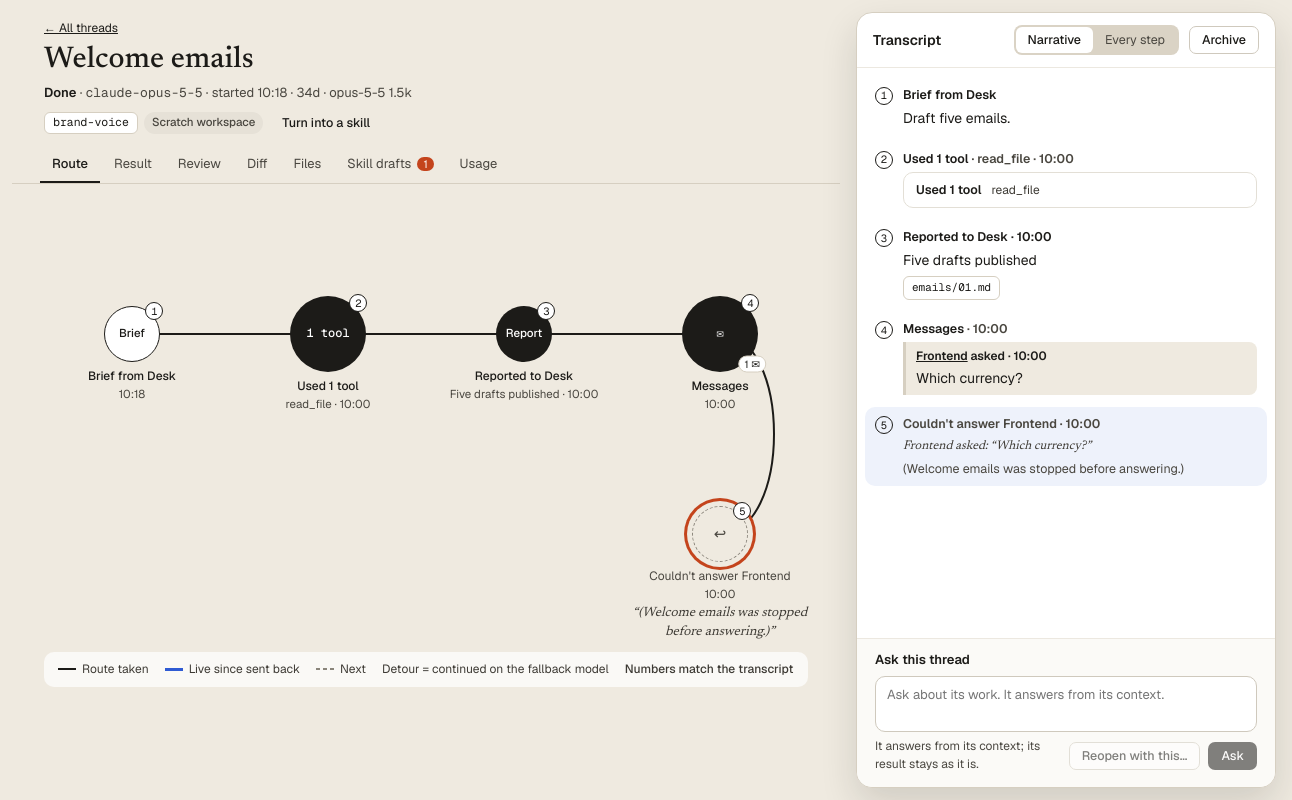
it: ThreadsScreen › mutes an answer run that could not answer and shows the runtime's closure
Check: the text "Couldn't answer Frontend" is shown, box x1=649 y1=568 x2=791 y2=585
Check: the text "Couldn't answer Frontend · 10:00" is shown, box x1=903 y1=415 x2=1100 y2=432
Click the button "Every step" at (1135, 40), box x1=1093 y1=27 x2=1177 y2=53
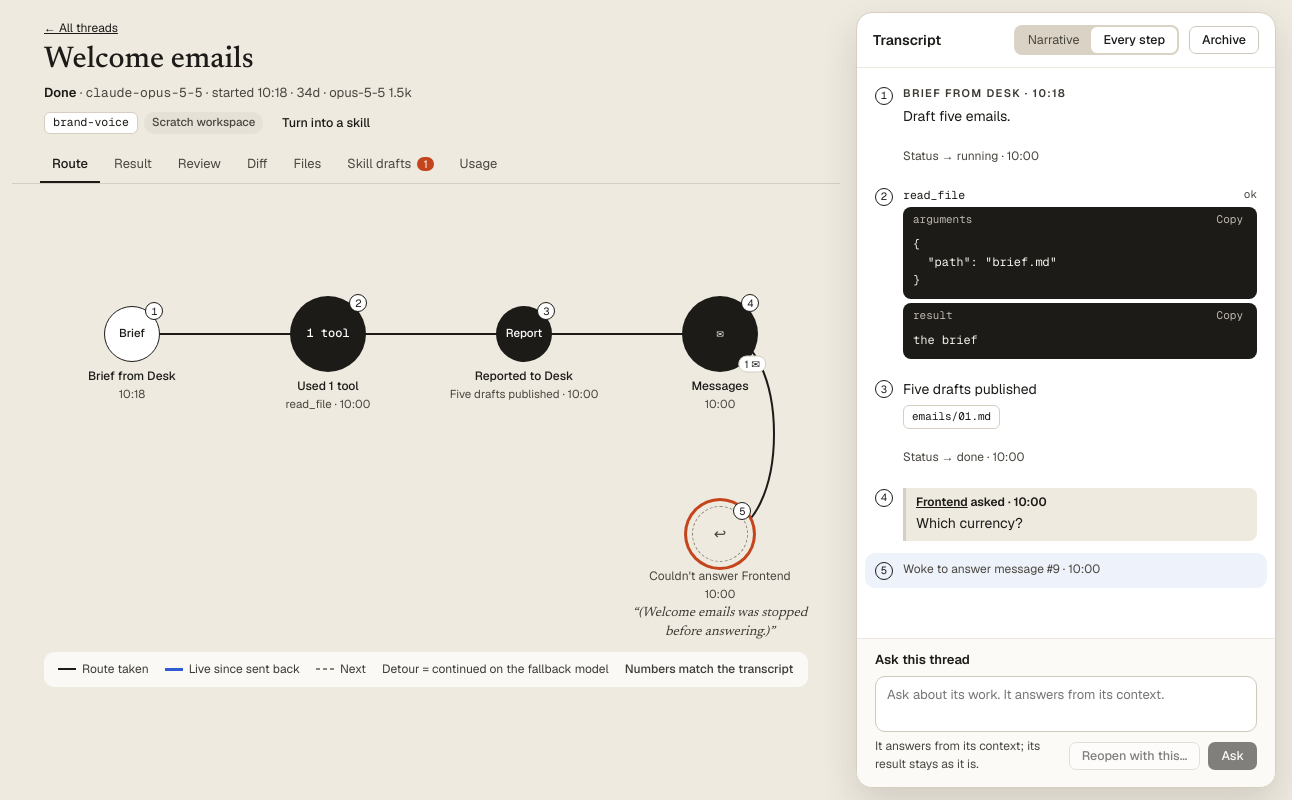
Check: the text "Woke to answer message #9 · 10:00" is shown, box x1=903 y1=561 x2=1100 y2=577
